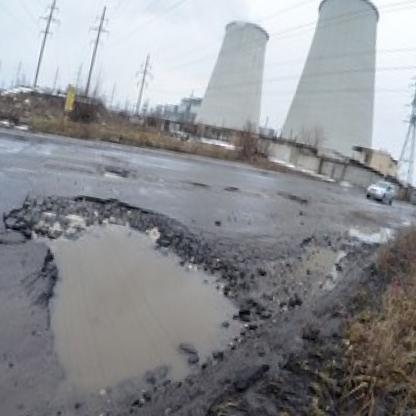pothole: (0, 181, 261, 405), (102, 166, 124, 179)
